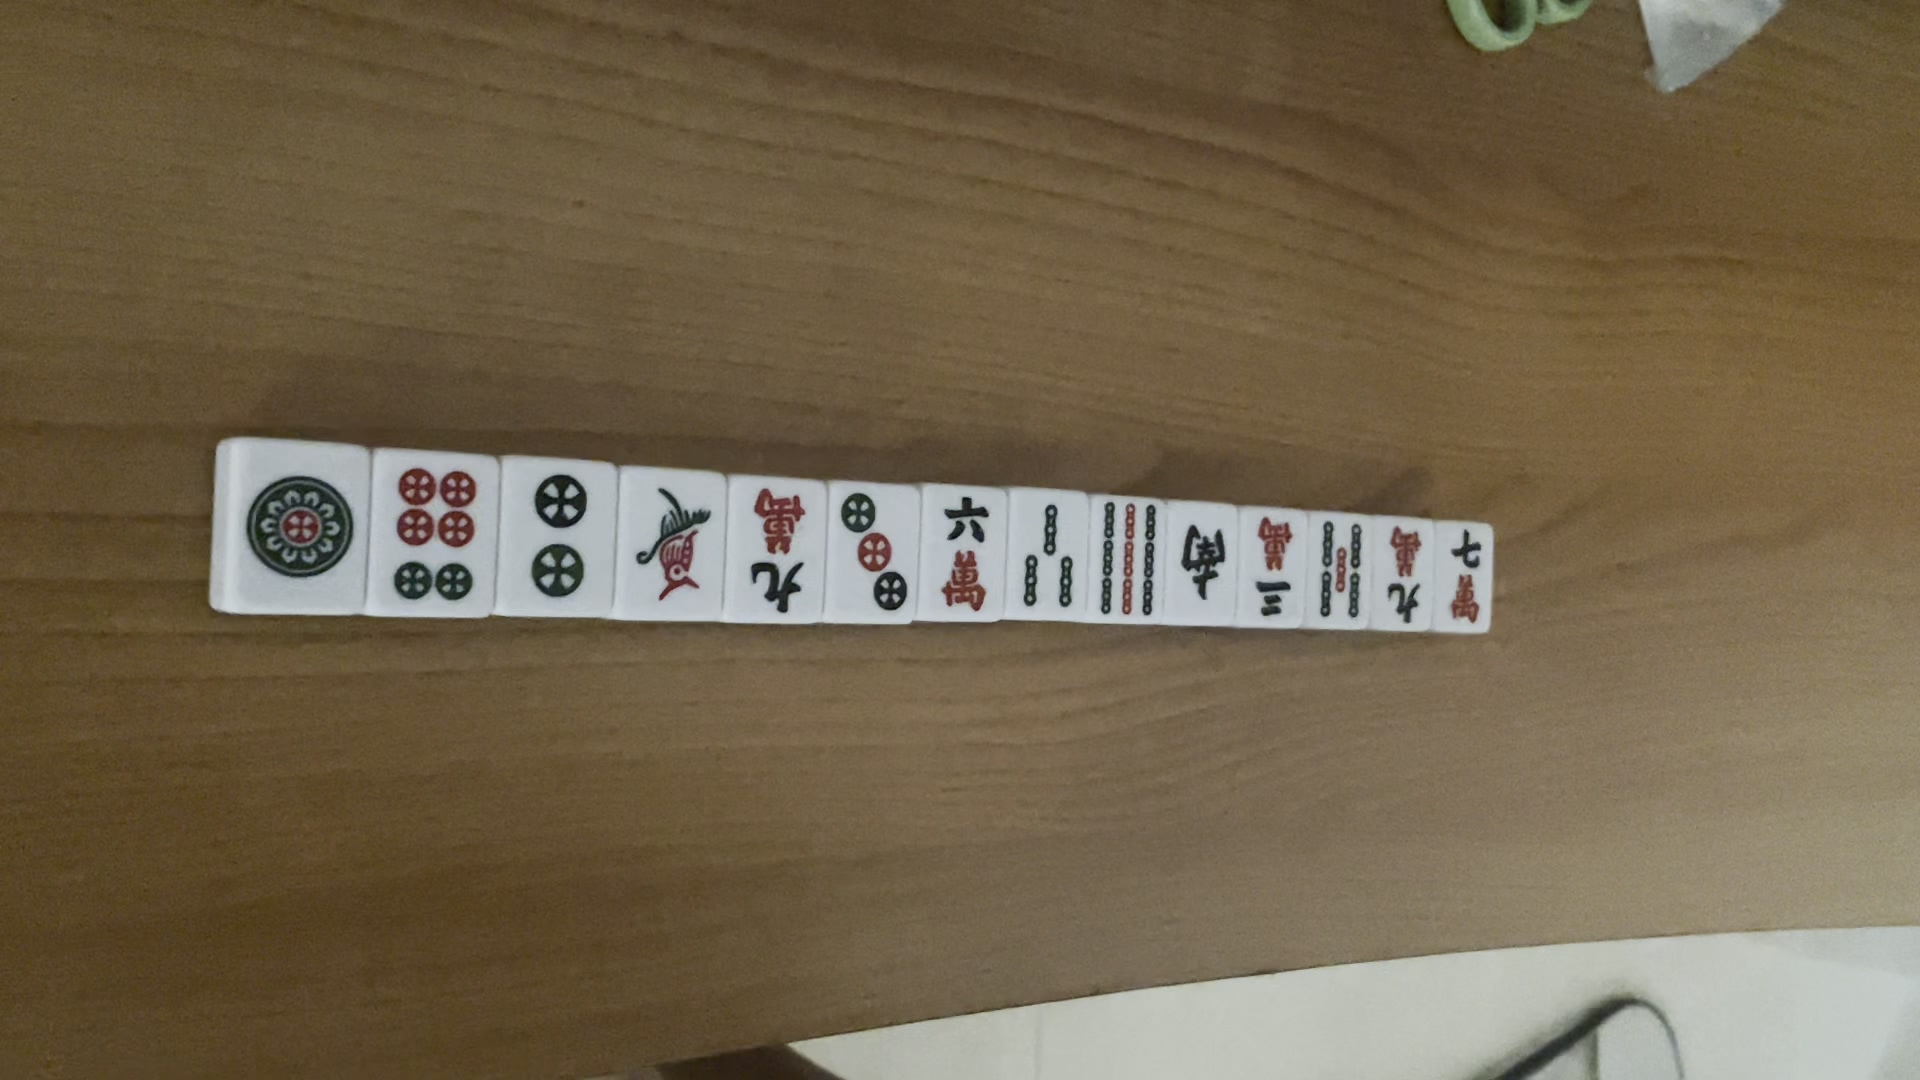b-1: (629, 475, 727, 603)
b-3: (1018, 496, 1076, 618)
b-5: (1307, 517, 1365, 626)
b-9: (1091, 498, 1160, 620)
c-3: (1245, 512, 1299, 621)
c-6: (934, 489, 996, 617)
c-7: (1448, 531, 1486, 630)
c-9: (731, 483, 818, 621), (1379, 520, 1431, 630)
d-1: (241, 469, 363, 575)
d-2: (510, 469, 593, 593)
d-3: (835, 488, 913, 621)
d-6: (386, 460, 487, 609)
honors-south: (1178, 516, 1240, 601)
